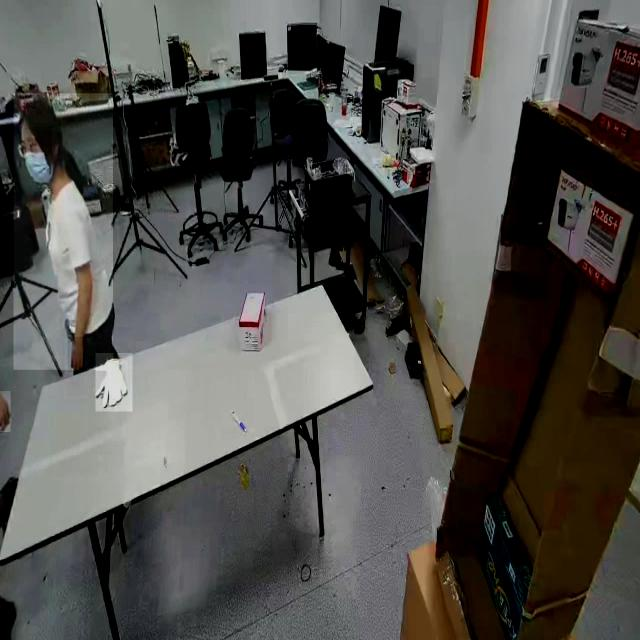face_mask: (24, 127, 52, 209)
hand_glove: (95, 353, 133, 412)
hand_noglove: (67, 337, 85, 372), (0, 391, 11, 433)
head_nohelmet: (20, 88, 54, 124)
person: (13, 93, 114, 371)
